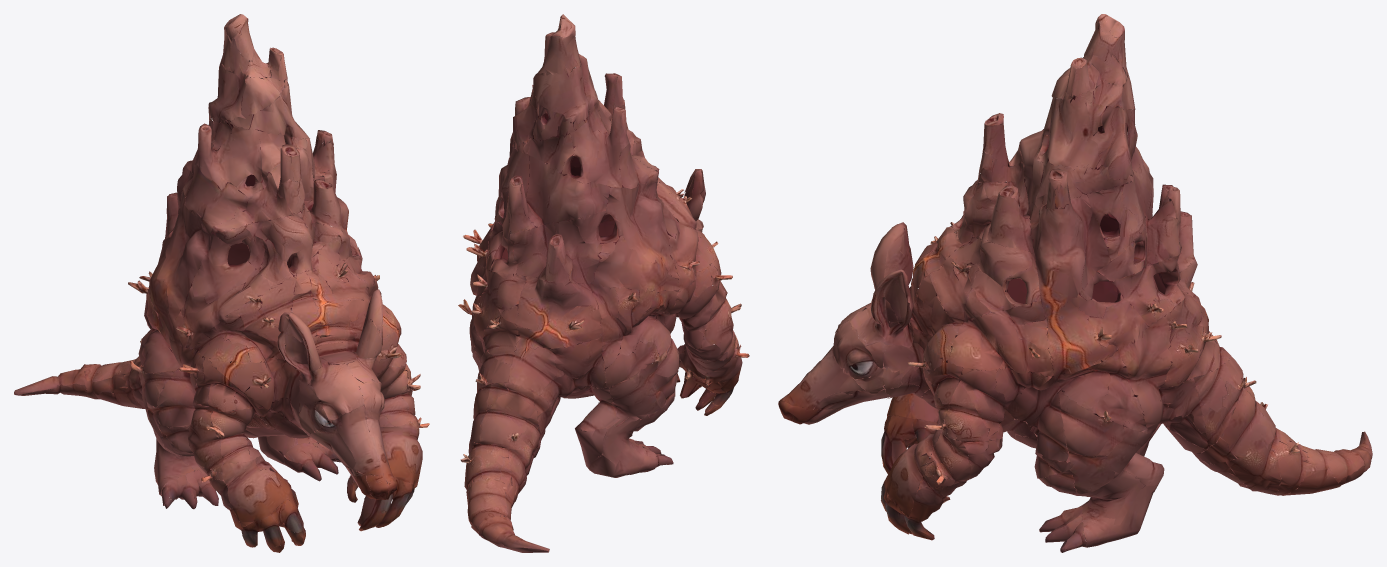
3 renders of one model, left to right at view 1: azimuth 30°, elevation 25°; view 2: azimuth 150°, elevation 25°; view 3: azimuth 270°, elevation 25°, orthographic. The views are drawn at different scales.
Parts seen in each view (by area): view 1: Mesh_0; view 2: Mesh_0; view 3: Mesh_0.
Boxes of the visible parts, <box> form: Mesh_0: <box>14,14,429,552</box>; Mesh_0: <box>458,14,749,552</box>; Mesh_0: <box>778,14,1372,552</box>.
Size of the model in its own units: 0.926 by 1.77 by 1.92.
1 material, 1 textured.
